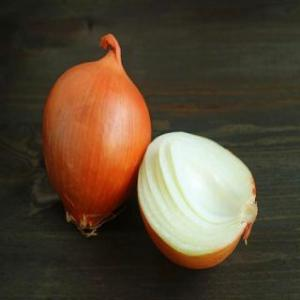onion: (42, 35, 152, 235), (136, 131, 258, 273)
